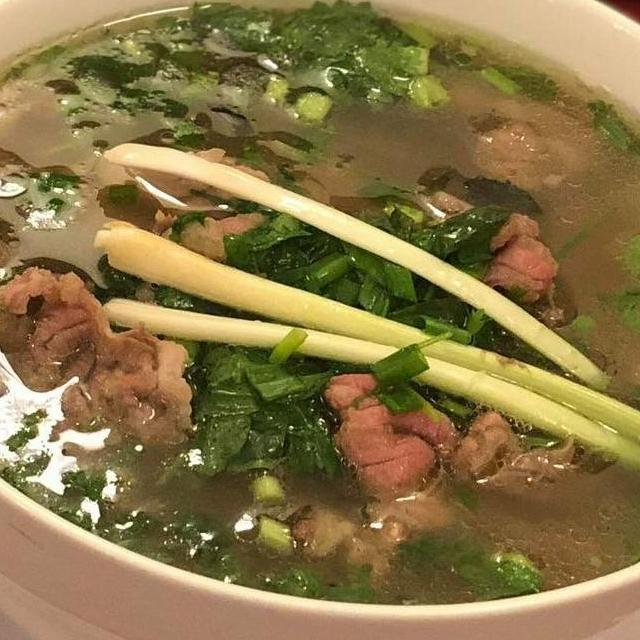thit bo: (0, 258, 206, 458), (319, 366, 574, 514), (481, 206, 567, 322)
